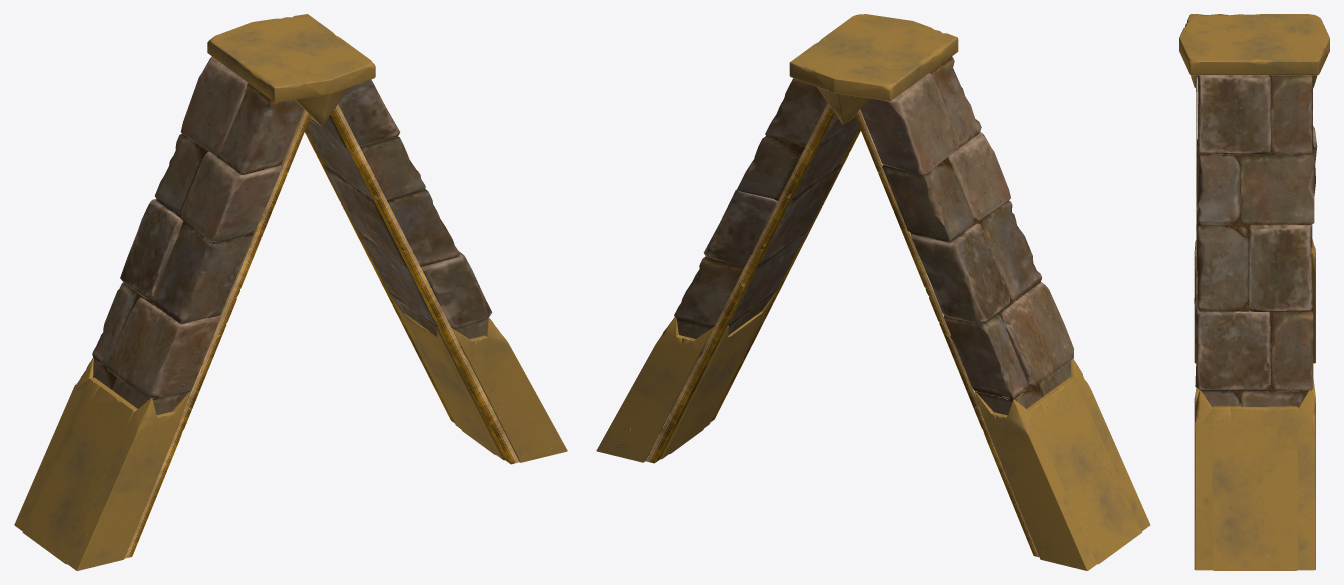
3 renders of one model, left to right at view 1: azimuth 30°, elevation 25°; view 2: azimuth 150°, elevation 25°; view 3: azimuth 270°, elevation 25°, orthographic. The views are drawn at different scales.
Parts seen in each view (by area): view 1: SM_Nightmare_Entrance_01_LOD0; view 2: SM_Nightmare_Entrance_01_LOD0; view 3: SM_Nightmare_Entrance_01_LOD0.
Part boxes in pixels (box(x1,y1,x2,y2)): SM_Nightmare_Entrance_01_LOD0: box(14, 14, 567, 570); SM_Nightmare_Entrance_01_LOD0: box(596, 14, 1150, 570); SM_Nightmare_Entrance_01_LOD0: box(1179, 14, 1329, 570).
Size of the model in its own units: 9.58 by 8.11 by 2.65.
4 materials, 4 textured.
